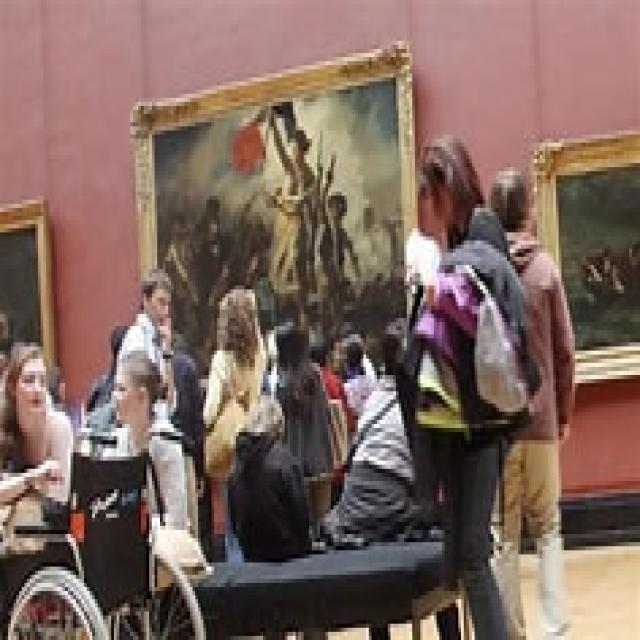libre: (154, 118, 406, 346)
